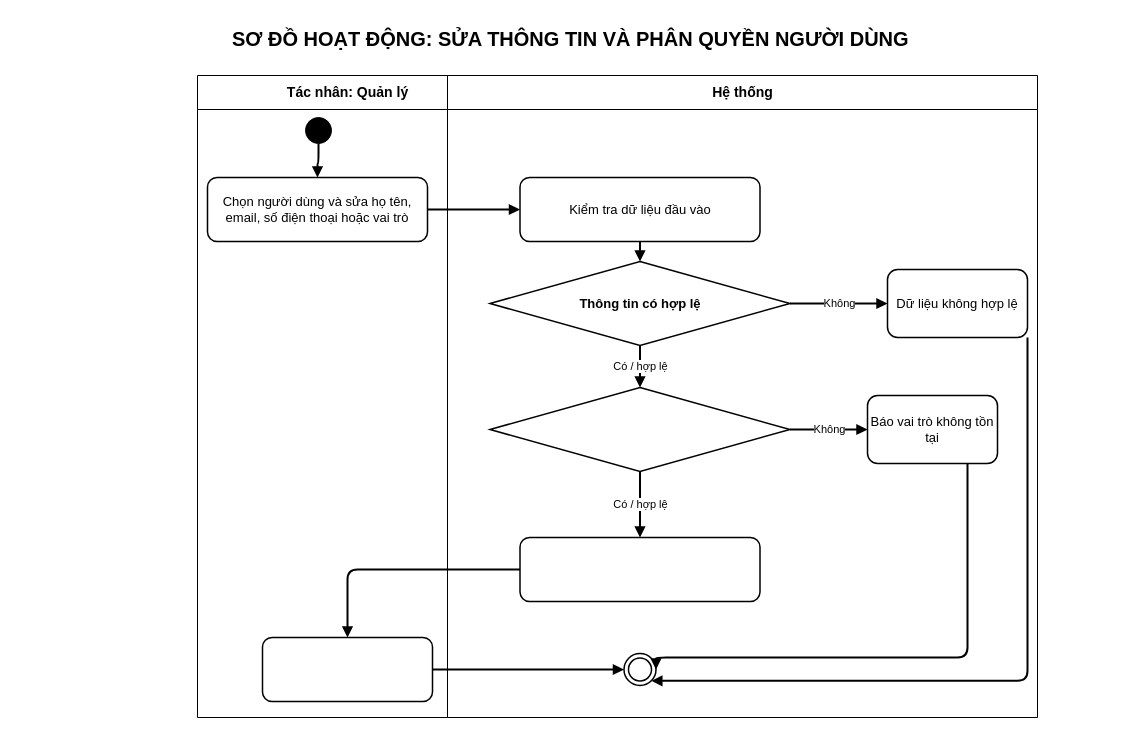
This 1134x735 diagram has some shape labels left out. The centre of each missing label's shape, as x and y in pixels:
"Cập nhật hồ sơ" belongs at point 639,569.
"Danh sách người dùng hiển thị thông tin mới" belongs at point 347,669.
"Vai trò mới có tồn tại hay không?" belongs at point 639,429.
